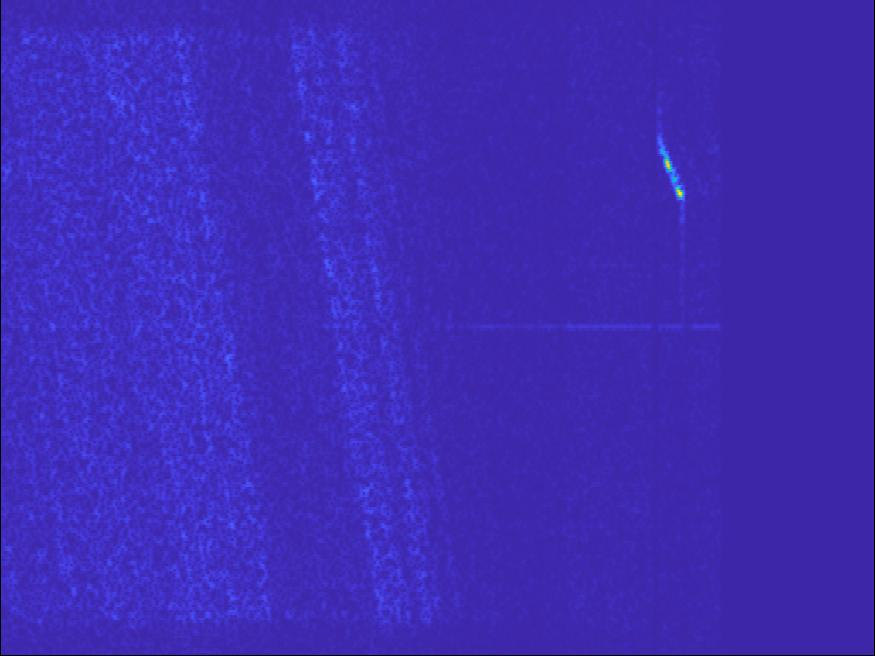Interference: (88, 3, 271, 166), (29, 294, 228, 362), (514, 408, 624, 455), (694, 458, 795, 504), (697, 569, 786, 610)
